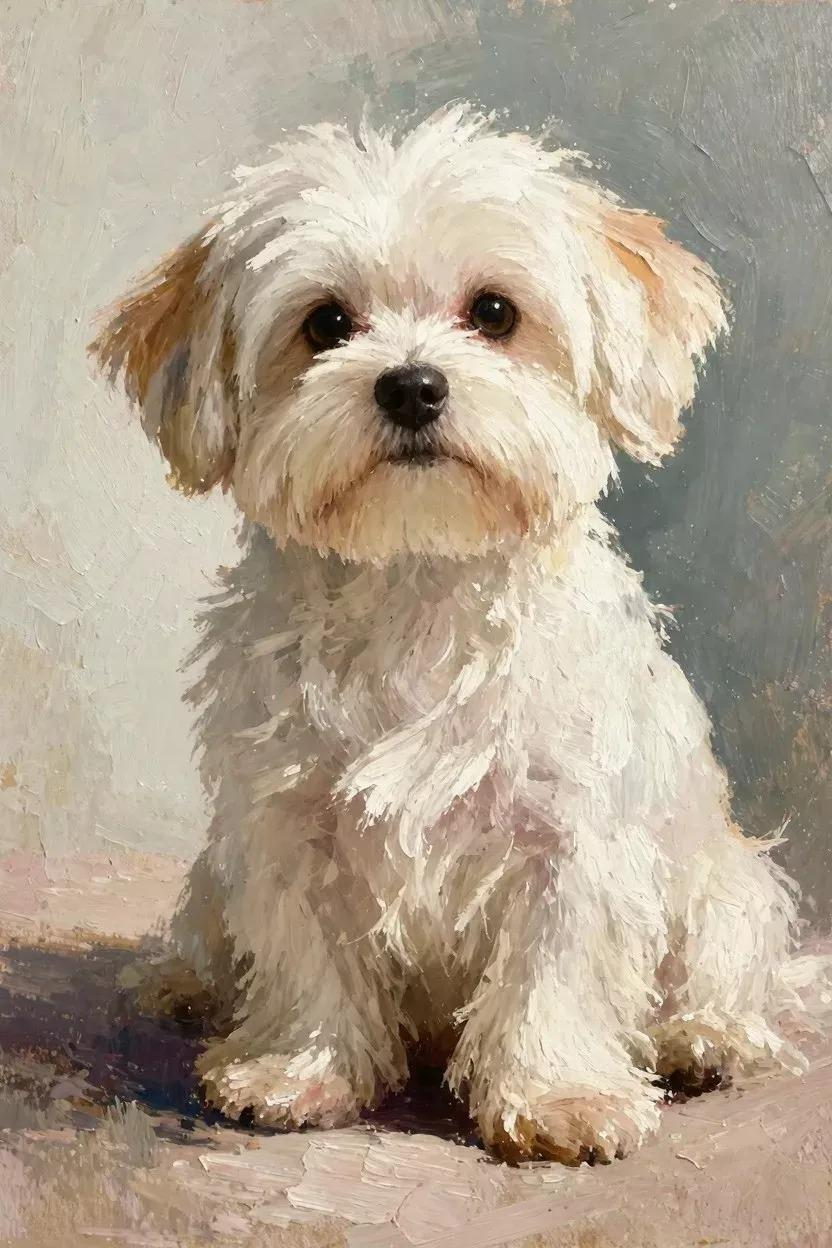puppy-dog: (87, 99, 821, 1169)
